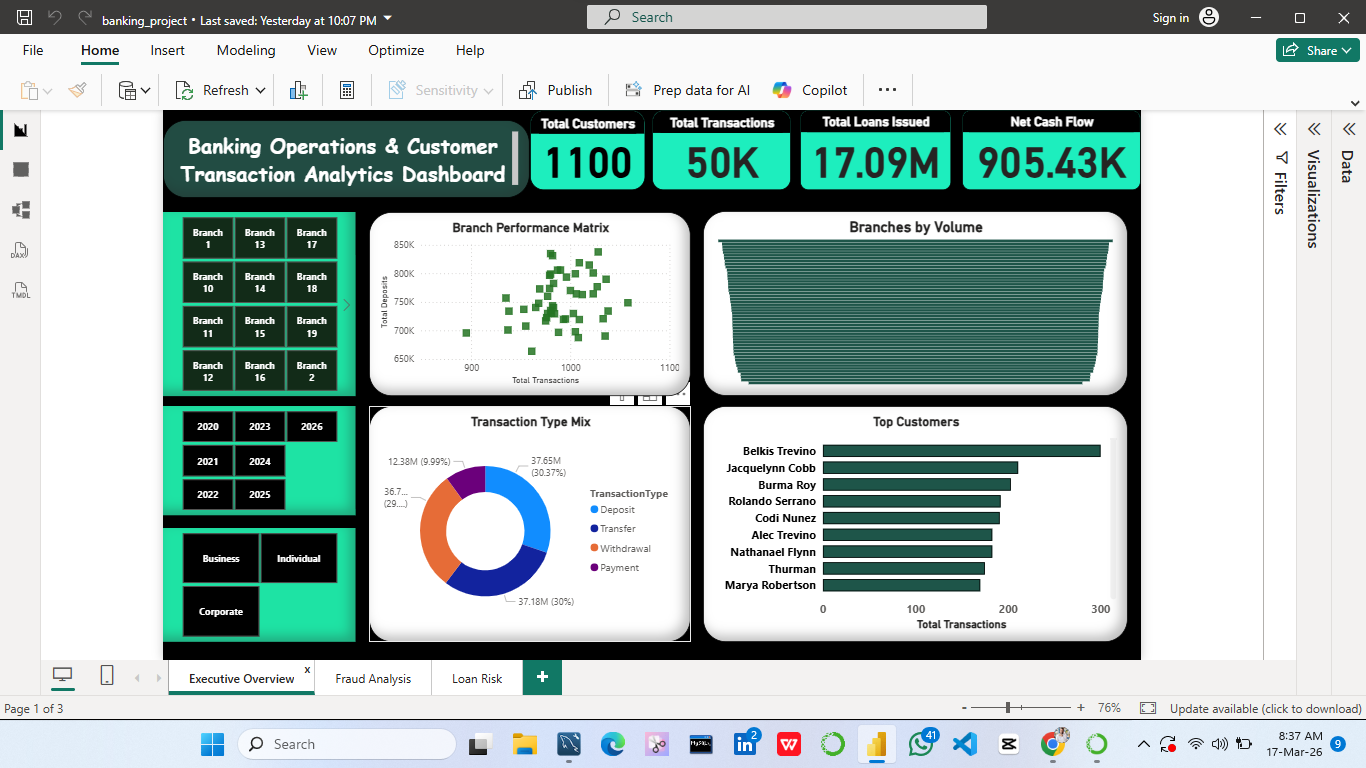

Layout of this report page (visuals, bound fields, positions):
{"tool":"powerbi","page":{"name":"Executive Overview","canvas":[1280,720],"ordinal":0},"visuals":[{"type":"card","title":"Total Customers","fields":{"Values":["Count(banking_project customers_cleaned.CustomerID)"]},"box":[480.4,0,150.5,104.7],"z":0},{"type":"card","title":"Total Transactions","fields":{"Values":["banking_project transactions_cleaned.Total Transactions"]},"box":[640.1,0,182,104.7],"z":1000},{"type":"card","title":"Total Loans Issued","fields":{"Values":["banking_project loans_cleaned.Total Loan Amount"]},"box":[833.9,0,197.7,104.7],"z":2000},{"type":"card","title":"Net Cash Flow","fields":{"Values":["banking_project transactions_cleaned.Net Cash Flow"]},"box":[1046.3,0,234.1,105.4],"z":3000},{"type":"donutChart","title":"Transaction Type Mix","fields":{"Category":["banking_project transactions_cleaned.TransactionType"],"Y":["Sum(banking_project transactions_cleaned.Amount)"]},"box":[269.3,387.8,421.5,308.8],"z":4000},{"type":"funnel","title":"Branches by Volume","fields":{"Category":["banking_project branches_cleaned.BranchName"],"Y":["banking_project transactions_cleaned.Total Transactions"]},"box":[706.9,132.2,556.4,242.2],"z":5000},{"type":"scatterChart","title":"Branch Performance Matrix","fields":{"X":["banking_project transactions_cleaned.Total Transactions"],"Y":["banking_project transactions_cleaned.Total Deposits"],"Category":["banking_project branches_cleaned.BranchName"]},"box":[269.3,133.2,421.5,241.5],"z":6000},{"type":"clusteredBarChart","title":"Top Customers","fields":{"Category":["banking_project customers_cleaned.FullName"],"Y":["banking_project transactions_cleaned.Total Transactions"]},"box":[706.9,387.5,556.4,308.9],"z":7000},{"type":"slicer","fields":{"Values":["banking_project branches_cleaned.BranchName"]},"box":[0,133.2,251.7,241.5],"z":8000},{"type":"slicer","fields":{"Values":["banking_project transactions_cleaned.Year"]},"box":[0,388.1,251.9,143.1],"z":9000},{"type":"slicer","fields":{"Values":["banking_project customers_cleaned.CustomerType"]},"box":[0,547.8,251.9,148.6],"z":10000},{"type":"textbox","box":[0,13.1,480.4,102.1],"z":11000}]}

Visuals, with their boxes on the page's 1280x720 design canvas (x1, y1, x2, y2). These are canvas units, not pixel positions in the 1366x768 screenshot, which may show the page scaled, cropped or inside an application window:
"Total Customers" card: <box>480,0,631,105</box>
"Total Transactions" card: <box>640,0,822,105</box>
"Total Loans Issued" card: <box>834,0,1032,105</box>
"Net Cash Flow" card: <box>1046,0,1280,105</box>
"Transaction Type Mix" donutChart: <box>269,388,691,697</box>
"Branches by Volume" funnel: <box>707,132,1263,374</box>
"Branch Performance Matrix" scatterChart: <box>269,133,691,375</box>
"Top Customers" clusteredBarChart: <box>707,388,1263,696</box>
slicer - banking_project branches_cleaned.BranchName: <box>0,133,252,375</box>
slicer - banking_project transactions_cleaned.Year: <box>0,388,252,531</box>
slicer - banking_project customers_cleaned.CustomerType: <box>0,548,252,696</box>
textbox: <box>0,13,480,115</box>
